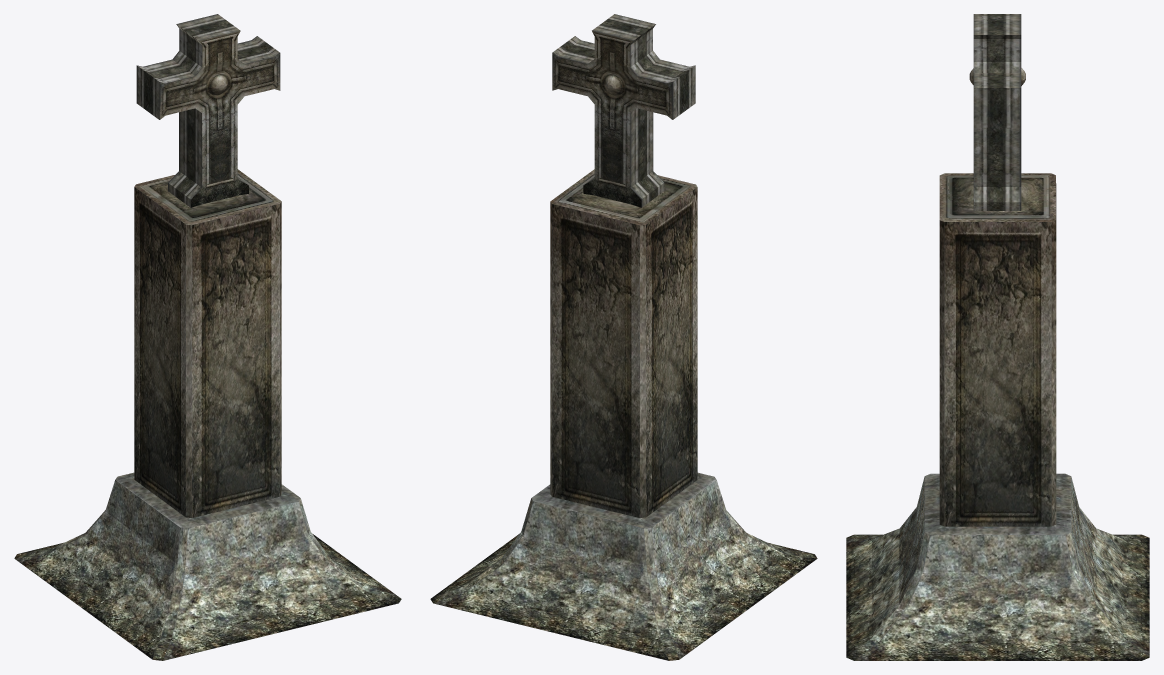
Rendered from crossstone.obj.
The picture shows the model from 3 angles, left to right: view 1: azimuth 30°, elevation 25°; view 2: azimuth 150°, elevation 25°; view 3: azimuth 270°, elevation 25°; orthographic projection. The views are drawn at different scales.
Size of the model in its own units: 9.83 by 20.78 by 9.97.
Materials: 1 (1 with a texture image).
